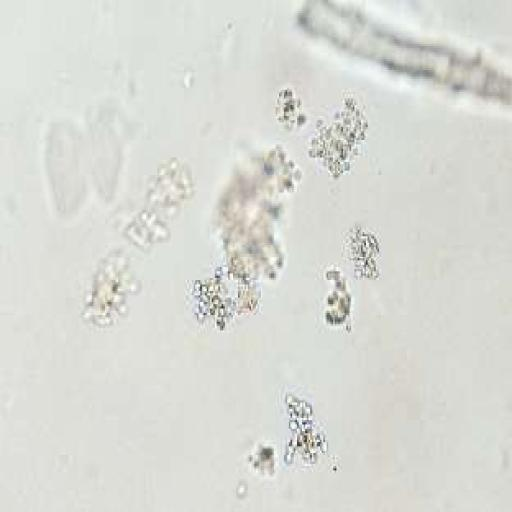BFU-E: (309, 96, 366, 177), (194, 265, 258, 328), (284, 394, 327, 462), (325, 269, 351, 328), (350, 225, 377, 276)
